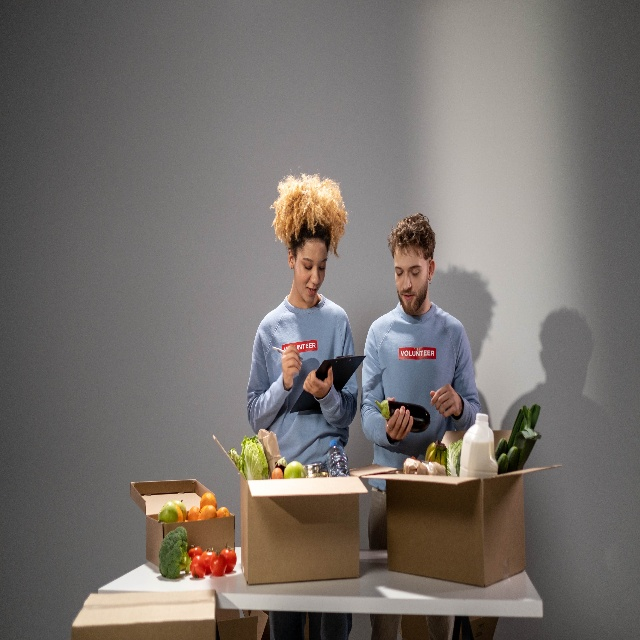Sin_guantes: (384, 394, 413, 442), (430, 383, 460, 418), (303, 365, 334, 398), (282, 347, 302, 390)
